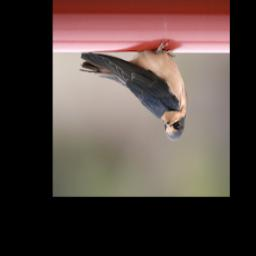Swallow: (79, 35, 188, 145)
